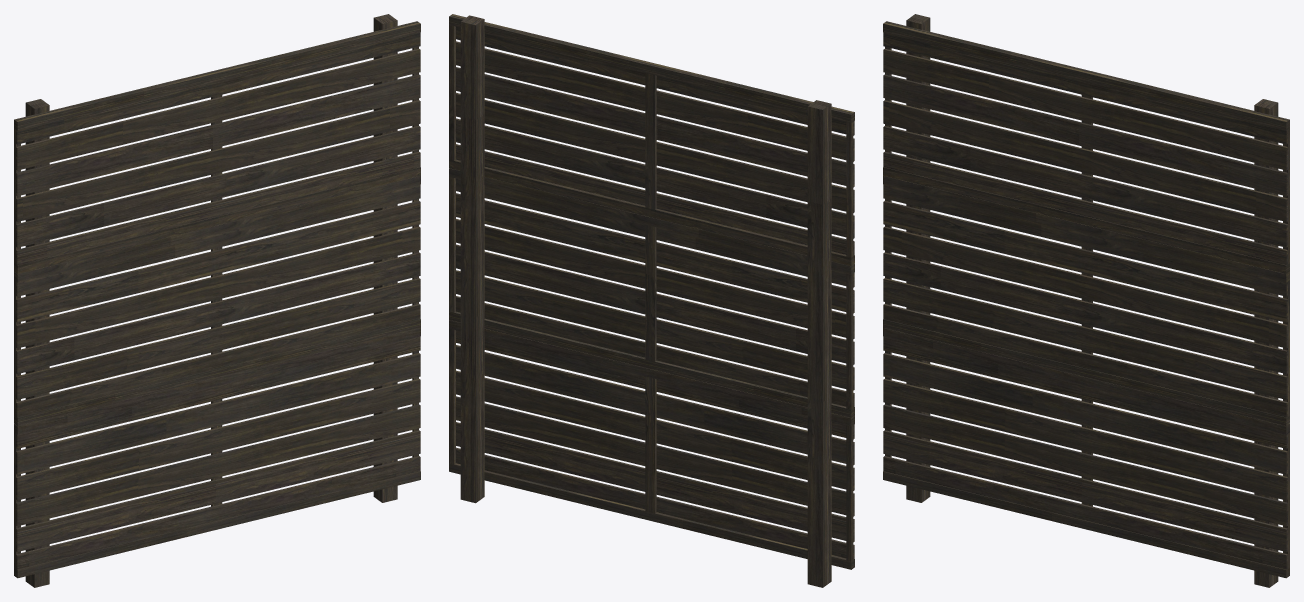
Rendered from eafyokoita-tadan_h24_blackebony.fbx.
3 views of the same model, side by side, from view 1: azimuth 30°, elevation 25°; view 2: azimuth 150°, elevation 25°; view 3: azimuth 330°, elevation 25° (orthographic).
Parts seen in each view (by area): view 1: eafyokoita-tadan_h24_blackebony; view 2: eafyokoita-tadan_h24_blackebony; view 3: eafyokoita-tadan_h24_blackebony.
Part boxes in pixels (box(x1,y1,x2,y2)): eafyokoita-tadan_h24_blackebony: box(14, 14, 420, 587); eafyokoita-tadan_h24_blackebony: box(449, 14, 854, 587); eafyokoita-tadan_h24_blackebony: box(883, 14, 1289, 587).
Bounding box in the file's own units: 200 × 227 × 10.25.
1 material, 1 textured.
